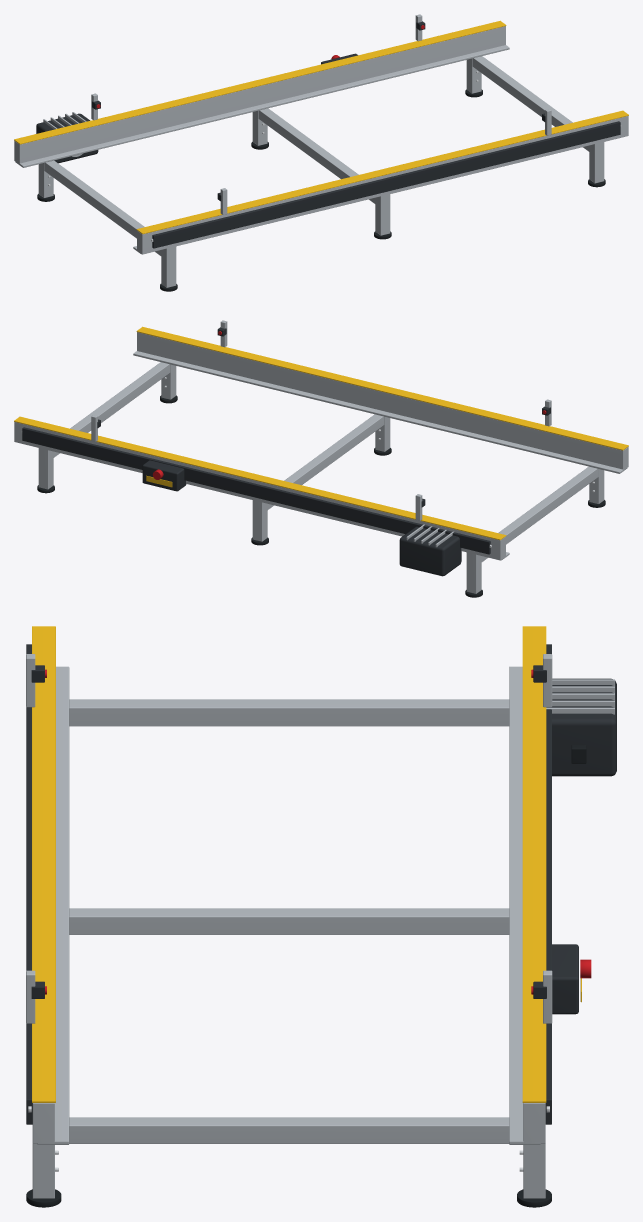
Rendered from SM_Conveyor_Frame.fbx.
The picture shows the model from 3 angles, top to bottom: view 1: azimuth 30°, elevation 25°; view 2: azimuth 150°, elevation 25°; view 3: azimuth 270°, elevation 25°; orthographic projection. The views are drawn at different scales.
Parts seen in each view (by area): view 1: SM_Conveyor_Frame; view 2: SM_Conveyor_Frame; view 3: SM_Conveyor_Frame.
Part boxes in pixels (box(x1,y1,x2,y2)): SM_Conveyor_Frame: box(14, 14, 628, 291); SM_Conveyor_Frame: box(14, 320, 628, 597); SM_Conveyor_Frame: box(26, 626, 616, 1207).
Size of what is drawn, in the model's own units: 3 by 1.58 by 0.5215.
